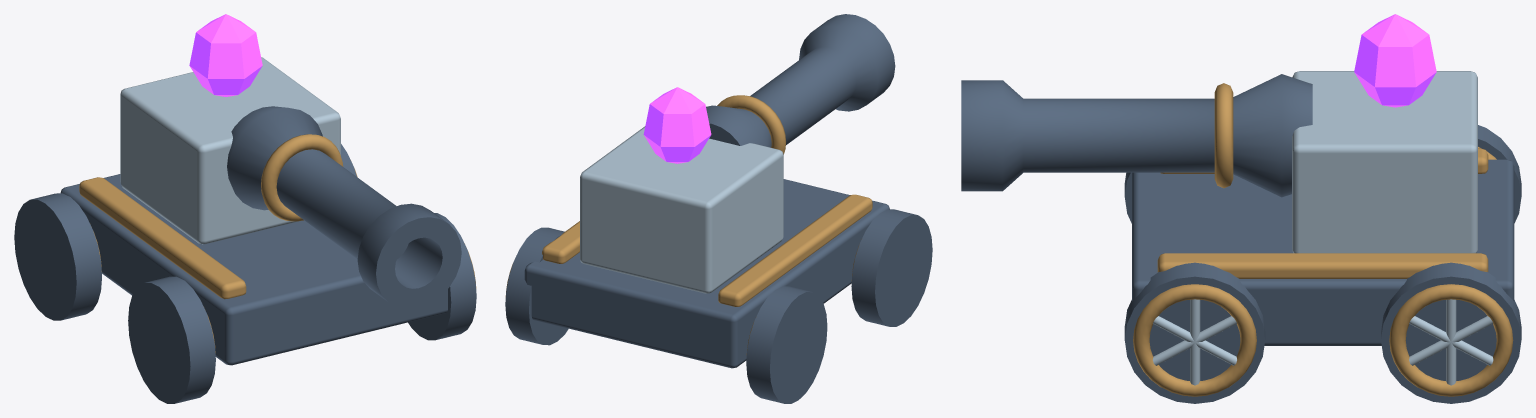
File: moonsteel-convergence-siege-crawler-2cbe72cc__18182.glb
The picture shows the model from 3 angles, left to right: view 1: azimuth 30°, elevation 25°; view 2: azimuth 150°, elevation 25°; view 3: azimuth 270°, elevation 25°; orthographic projection. The views are drawn at different scales.
Parts seen in each view (by area): view 1: siege-crawler; view 2: siege-crawler; view 3: siege-crawler.
Part boxes in pixels (box(x1,y1,x2,y2)): siege-crawler: box(14, 14, 476, 403); siege-crawler: box(505, 14, 932, 403); siege-crawler: box(961, 14, 1521, 403).
Size of the model in its own units: 1.84 by 1.7 by 2.71.
